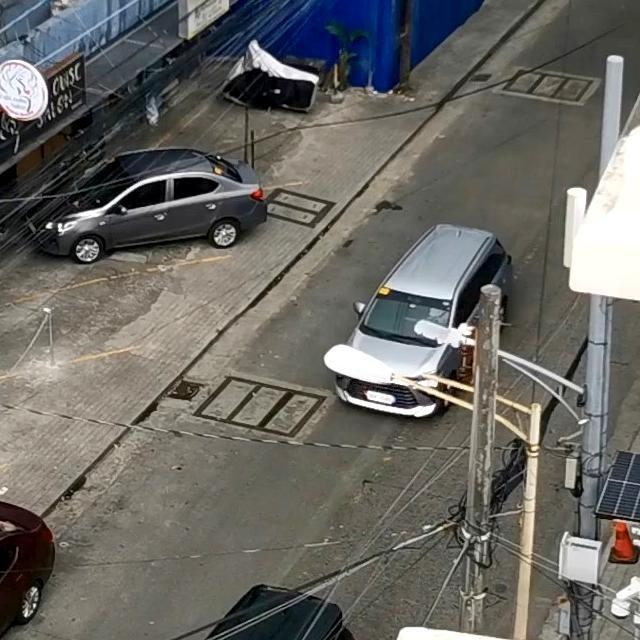Car: (318, 224, 506, 411), (29, 147, 258, 263), (106, 582, 356, 640)
